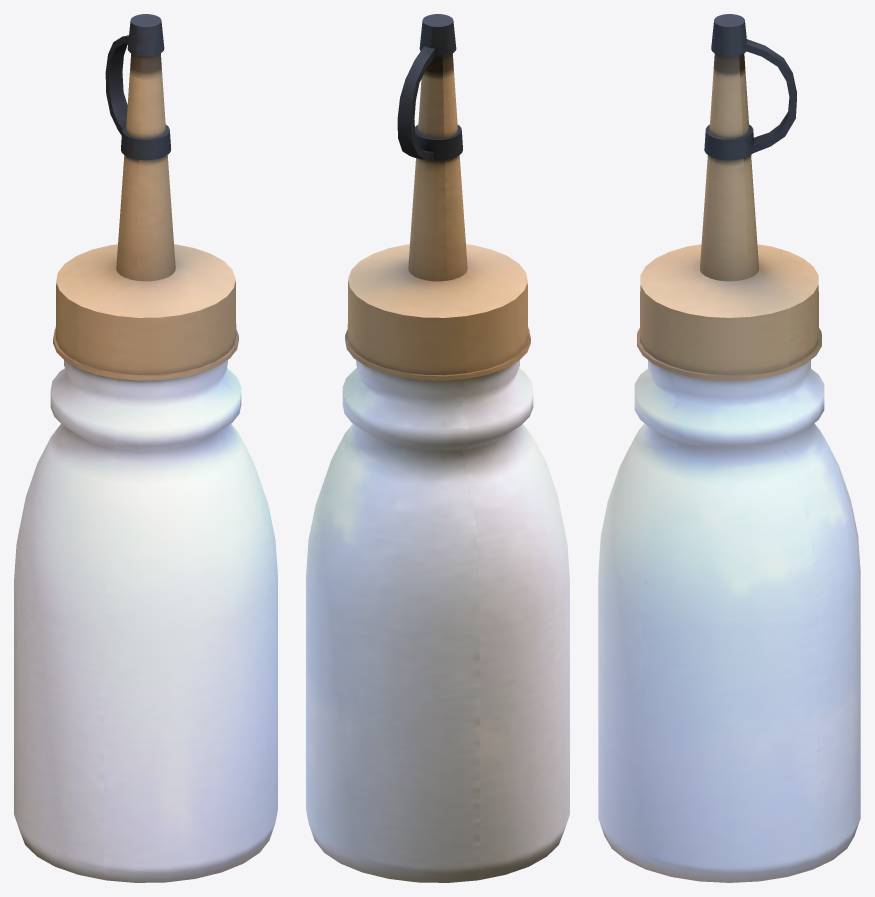
The model's file is chemicals.glb.
3 views of the same model, side by side, from view 1: azimuth 30°, elevation 25°; view 2: azimuth 150°, elevation 25°; view 3: azimuth 270°, elevation 25° (orthographic).
Visible parts, largest first — view 1: bottle_chemicals; view 2: bottle_chemicals; view 3: bottle_chemicals.
Part boxes in pixels (<box>): bottle_chemicals: <box>14,14,277,882</box>; bottle_chemicals: <box>306,14,569,882</box>; bottle_chemicals: <box>598,14,860,882</box>.
Size of the model in its own units: 0.0191 by 0.0645 by 0.0189.
1 material, 1 textured.
